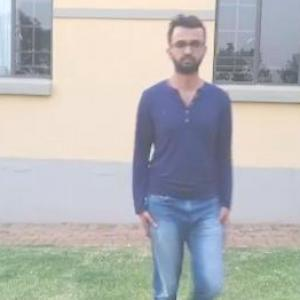follow: (135, 16, 239, 299)
